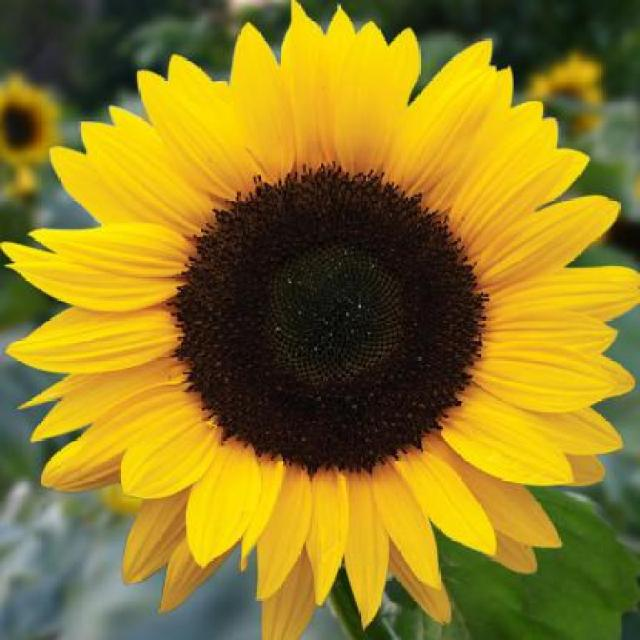sunflower: (0, 15, 638, 638), (0, 65, 65, 172)
